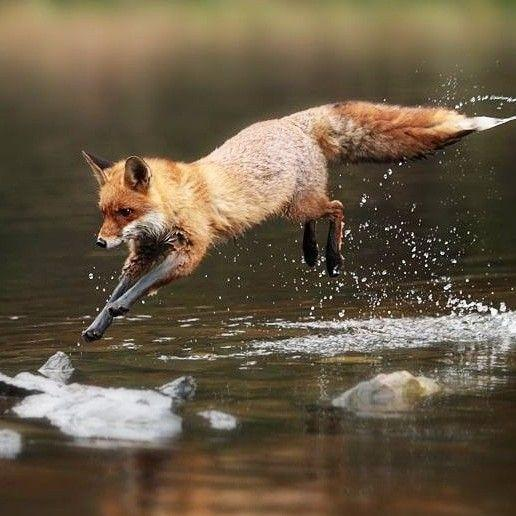fox: (66, 91, 497, 336)
